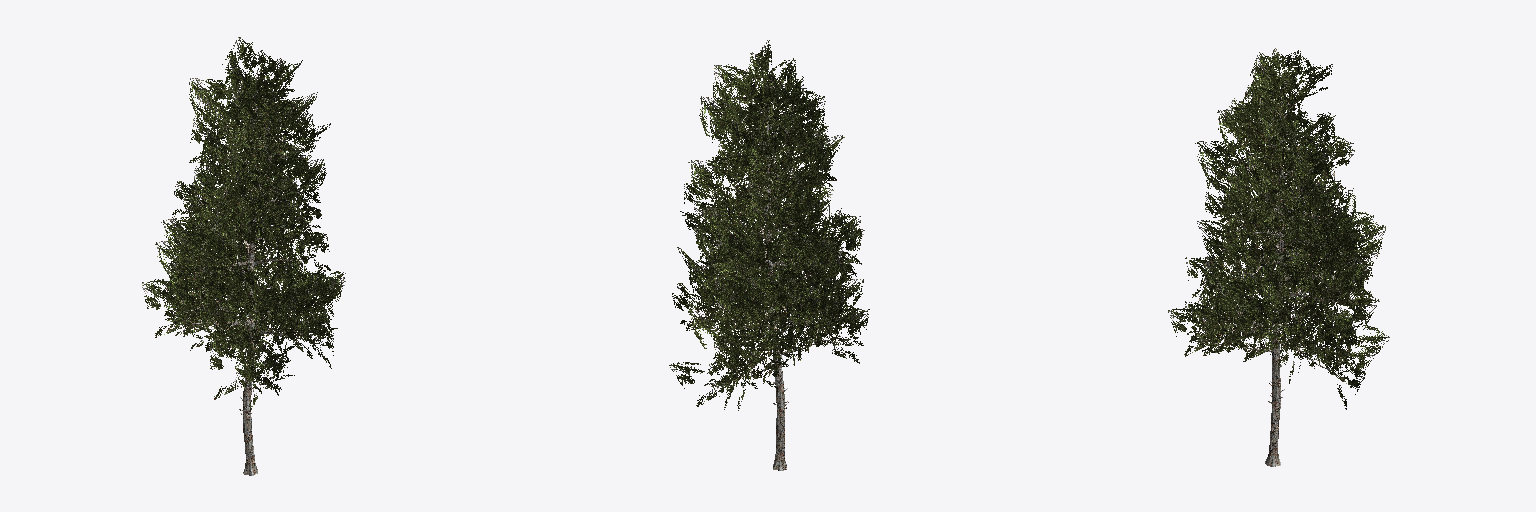
3 renders of one model, left to right at view 1: azimuth 30°, elevation 25°; view 2: azimuth 150°, elevation 25°; view 3: azimuth 270°, elevation 25°, orthographic.
Visible parts, largest first — view 1: Conifer_Low_Needles, Conifer_Low_BlueSpruceBark; view 2: Conifer_Low_Needles, Conifer_Low_BlueSpruceBark; view 3: Conifer_Low_Needles, Conifer_Low_BlueSpruceBark.
Boxes of the visible parts, box(x1,y1,x2,y2) form: Conifer_Low_Needles: box(142, 37, 345, 411); Conifer_Low_BlueSpruceBark: box(188, 92, 309, 475); Conifer_Low_Needles: box(669, 40, 869, 410); Conifer_Low_BlueSpruceBark: box(703, 105, 833, 470); Conifer_Low_Needles: box(1168, 48, 1389, 409); Conifer_Low_BlueSpruceBark: box(1215, 103, 1339, 466).
Size of the model in its own units: 30.11 by 65.71 by 32.23.
Materials: 3 (3 with a texture image).